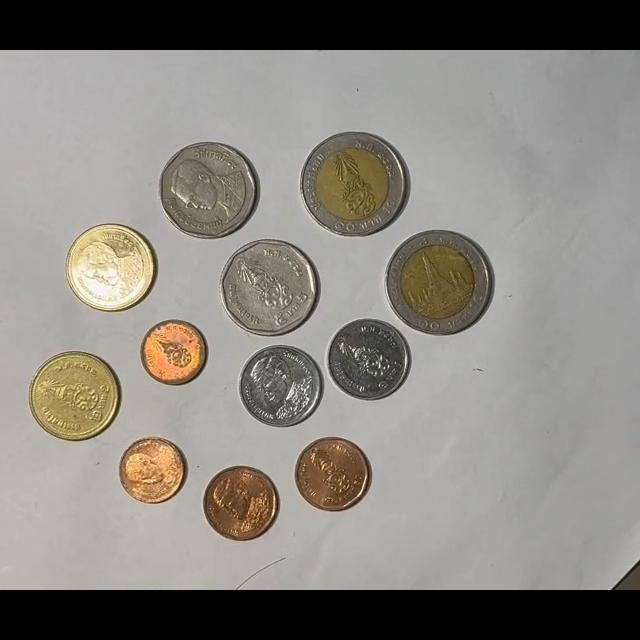1-baht: (237, 344, 322, 428), (326, 318, 410, 402)
10-baht: (300, 131, 408, 238), (385, 229, 492, 336)
2-baht: (29, 350, 121, 442), (65, 224, 155, 313)
25-satang: (118, 437, 188, 505), (140, 320, 207, 386)
5-baht: (220, 238, 321, 337), (159, 141, 260, 239)
50-satang: (202, 465, 280, 542), (294, 437, 371, 513)
